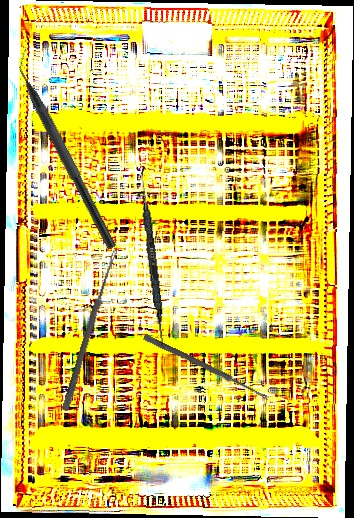Chopper: (3, 43, 131, 252)
Spatula Surgical: (134, 166, 170, 346)
Surgical Spoon: (61, 248, 119, 412), (142, 333, 271, 402)
